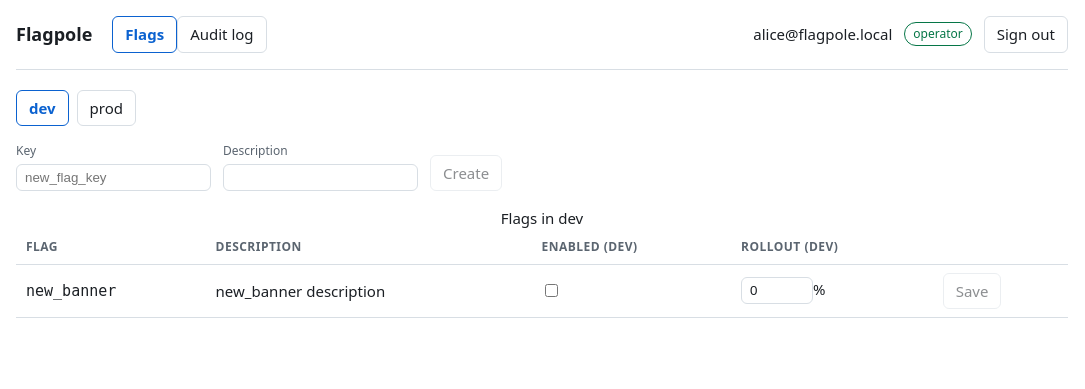
Test: drops a success notice when the view changes (US3-4)
This screenshot has width=1085, height=389.
Expected: the row with test id "flag-row-new_banner" is shown, [16, 264, 1068, 318]
What coordinates should you click on to do the following:
click the checkbox with test id "flag-enabled-new_banner"
I would click on:
 (552, 290)
Its box is [546, 284, 558, 296].
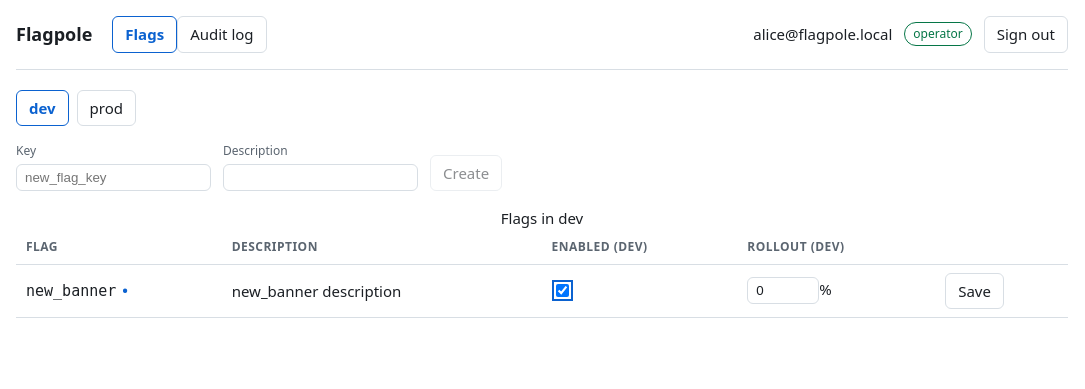
What coordinates should you click on to do the following:
click the button with test id "flag-save-new_banner"
I would click on:
 (975, 291)
Its box is [945, 272, 1004, 309].
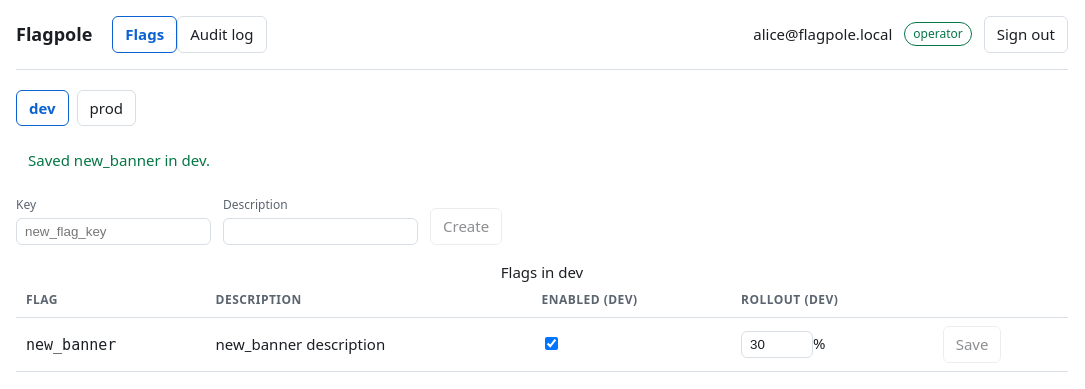
Expected: the message "Saved new_banner in dev." is shown, [28, 150, 210, 170]
What coordinates should you click on to do the following:
click the tab with test id "env-tab-prod"
I would click on:
 (106, 108)
Its box is [77, 90, 136, 126].
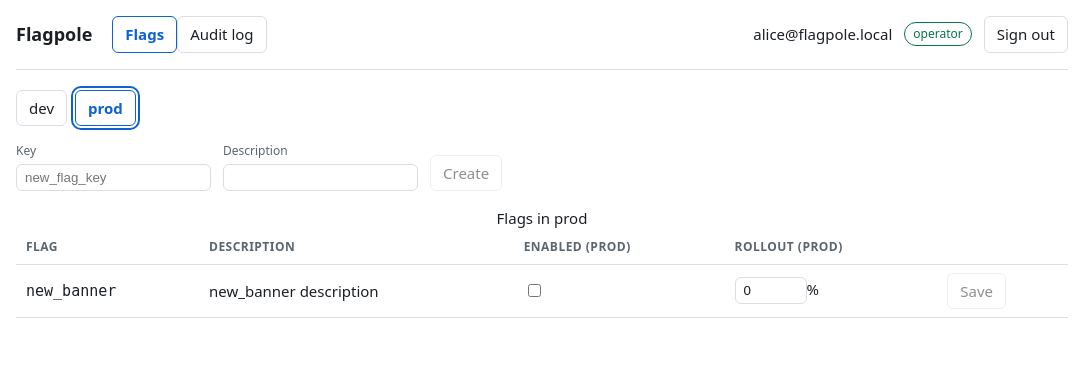
Expected: the message with test id "notice-success" is gone
